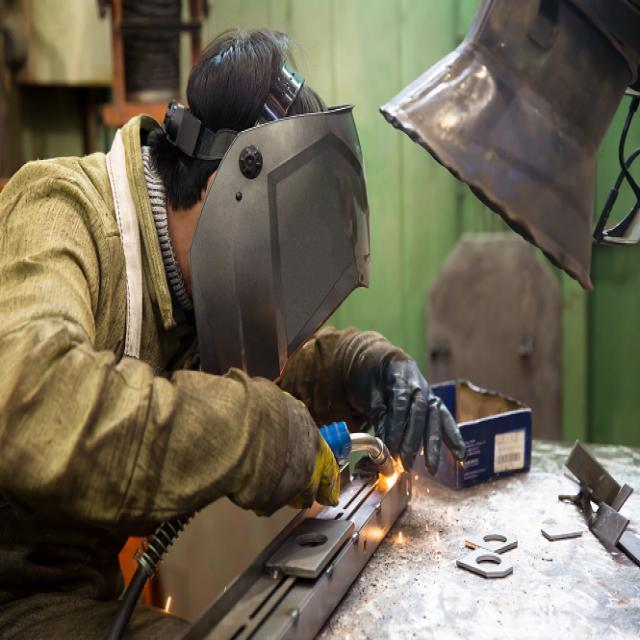with_helmet: (191, 106, 369, 378)
